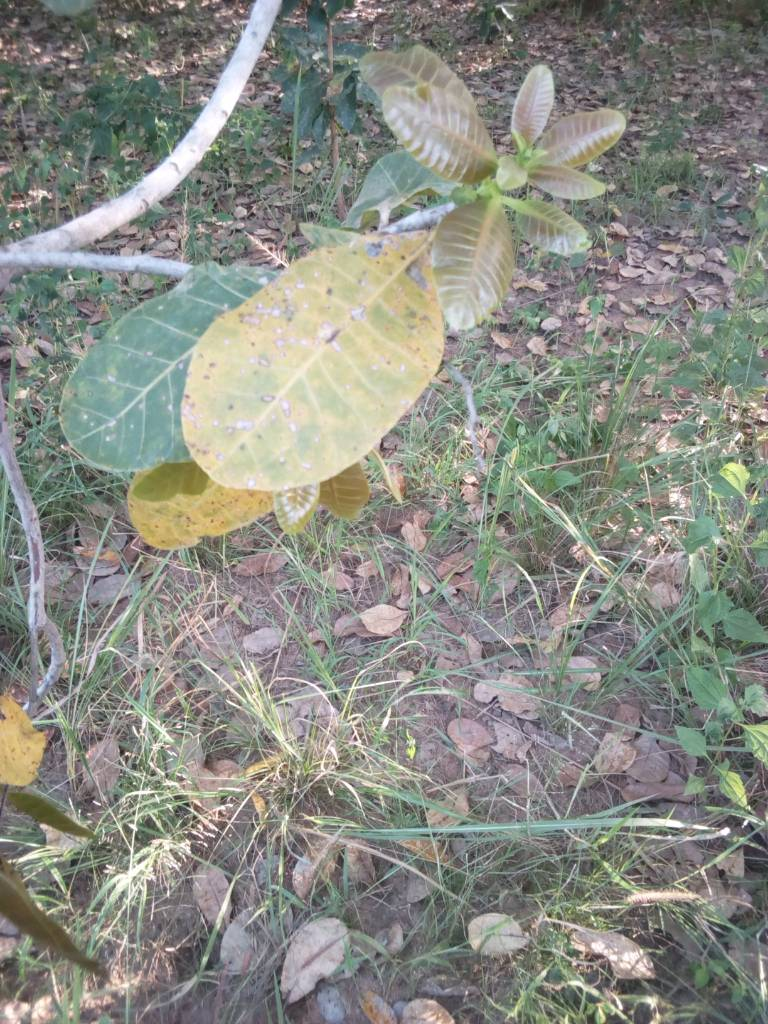Anthracnose: (183, 227, 441, 492)
